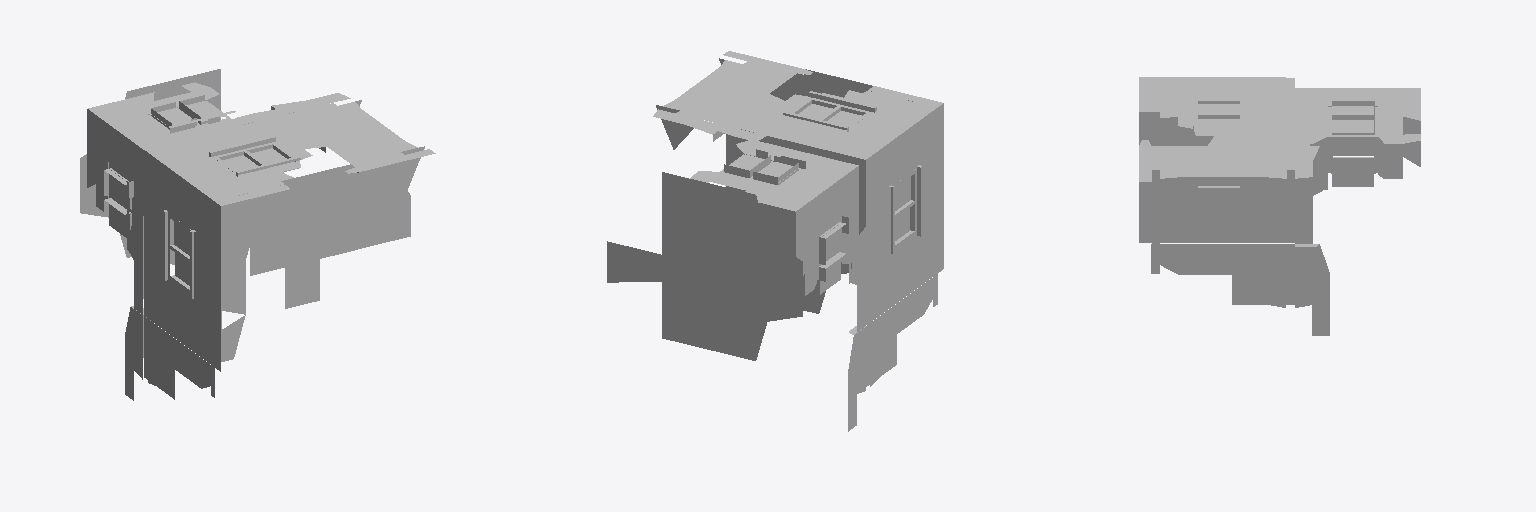
The model's file is Destory7.obj.
3 renders of one model, left to right at view 1: azimuth 30°, elevation 25°; view 2: azimuth 150°, elevation 25°; view 3: azimuth 270°, elevation 25°, orthographic.
Visible parts, largest first — view 1: Destory7; view 2: Destory7; view 3: Destory7.
Boxes of the visible parts, <box> form: Destory7: <box>80,69,435,400</box>; Destory7: <box>607,51,943,431</box>; Destory7: <box>1139,77,1420,335</box>.
Bounding box in the file's own units: 6.02 × 6.9 × 6.71.